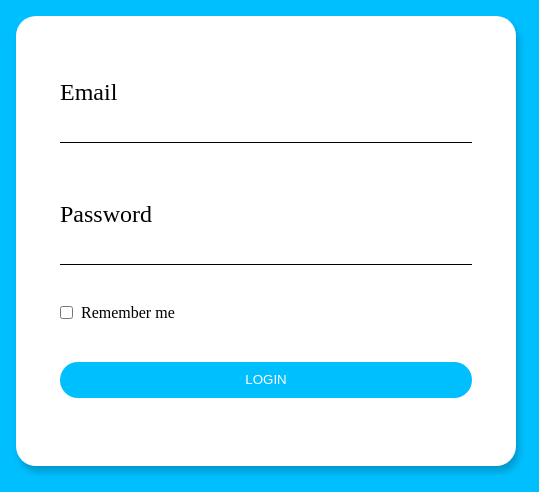
Test: renders invalid email error if email is missing @
Type "testtest.com" into the field labelled "Email" at (266, 127), box [60, 111, 472, 143]
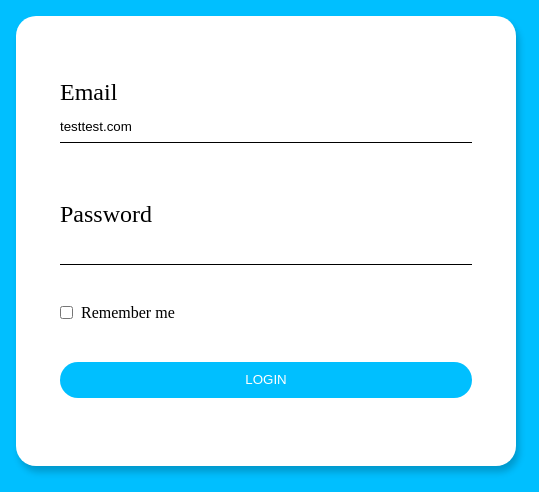
Click the button "login" at (266, 380), box [60, 362, 472, 398]
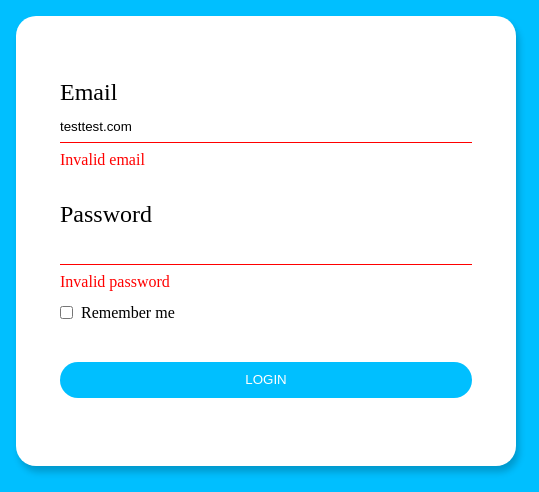
Now the text "Invalid email" is shown, box [60, 151, 145, 168]
